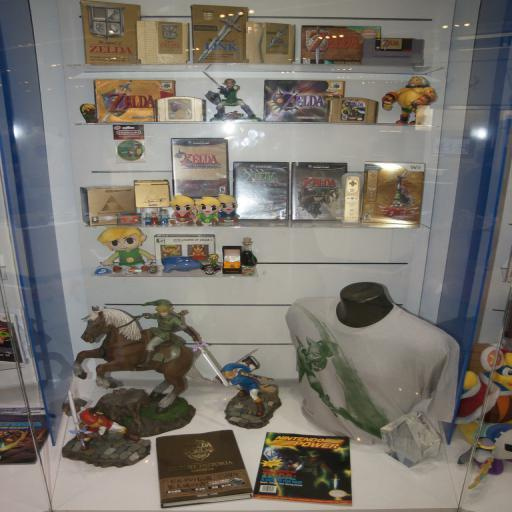horse: (72, 304, 196, 414)
